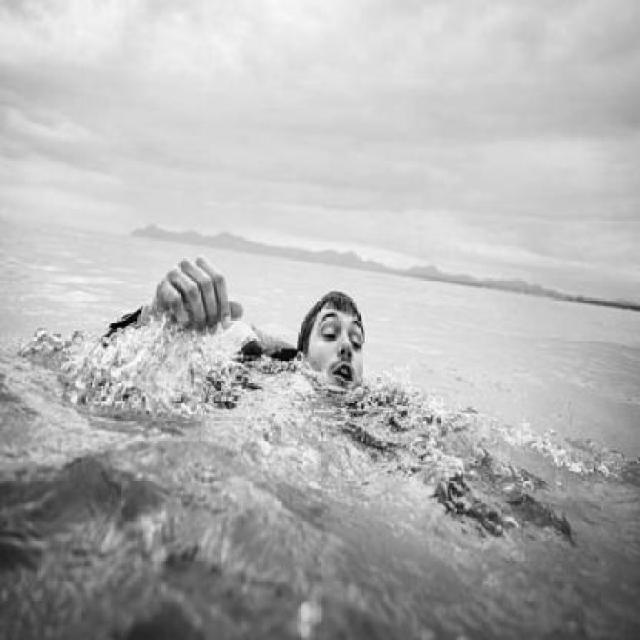drowning: (6, 132, 640, 640)
